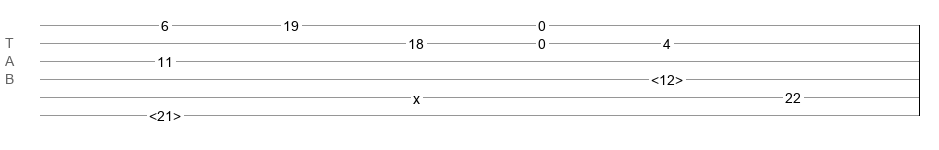0: (538, 36, 546, 46), (538, 18, 546, 28)
11: (157, 54, 173, 64)
18: (408, 36, 424, 46)
19: (283, 18, 299, 28)
22: (785, 90, 801, 100)
4: (663, 36, 671, 46)
6: (161, 18, 169, 28)
harmonic: (149, 108, 181, 118), (651, 72, 683, 82)
x: (413, 91, 420, 99)
